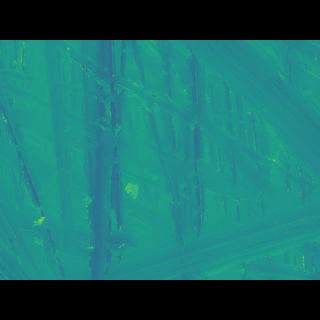Loch: (4, 74, 314, 247)
